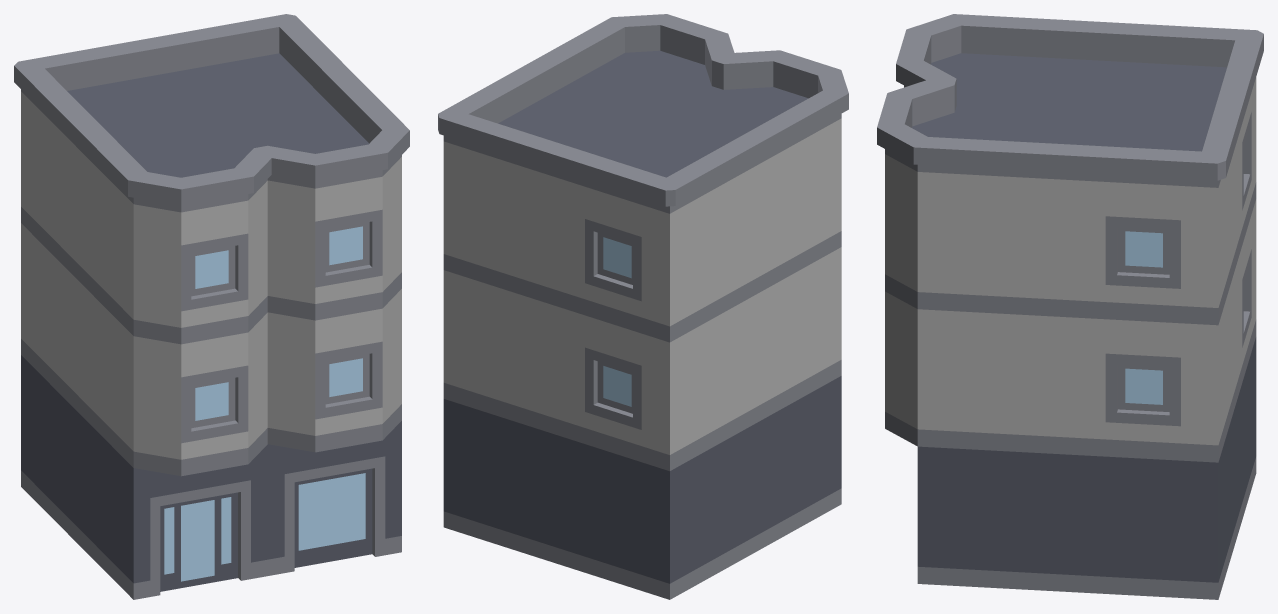
The model's file is variant_24.fbx.
The picture shows the model from 3 angles, left to right: view 1: azimuth 30°, elevation 25°; view 2: azimuth 150°, elevation 25°; view 3: azimuth 270°, elevation 25°; orthographic projection. The views are drawn at different scales.
Visible parts, largest first — view 1: small_buildingA; view 2: small_buildingA; view 3: small_buildingA.
Part boxes in pixels (x1=…): small_buildingA: x1=14, y1=14, x2=409, y2=599; small_buildingA: x1=438, y1=14, x2=848, y2=599; small_buildingA: x1=877, y1=14, x2=1263, y2=599.
Size of the model in its own units: 93.47 by 128 by 102.
